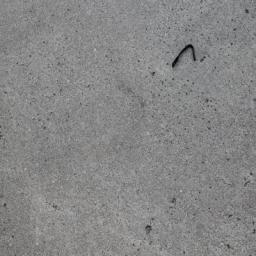FOD: (169, 44, 203, 70)
